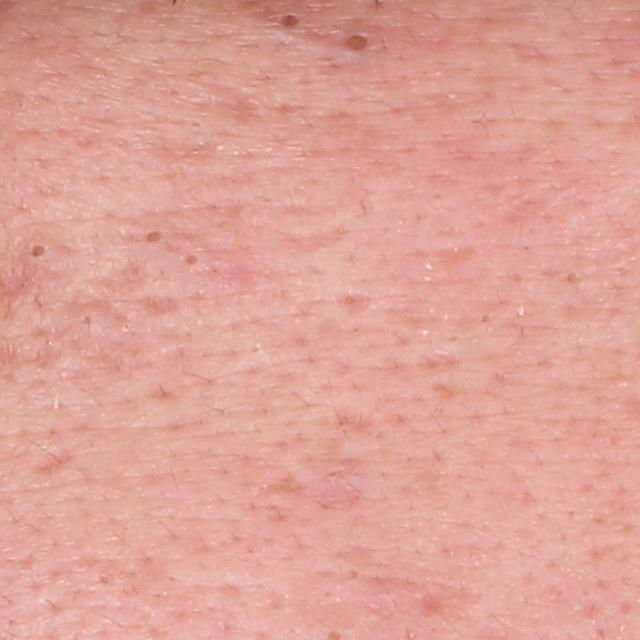atrophic_scar: (82, 254, 159, 298), (290, 222, 352, 256), (30, 443, 77, 481), (127, 291, 183, 322), (330, 287, 370, 316)
comedo: (340, 30, 372, 53), (74, 309, 100, 333), (473, 305, 496, 329), (275, 12, 302, 32)
